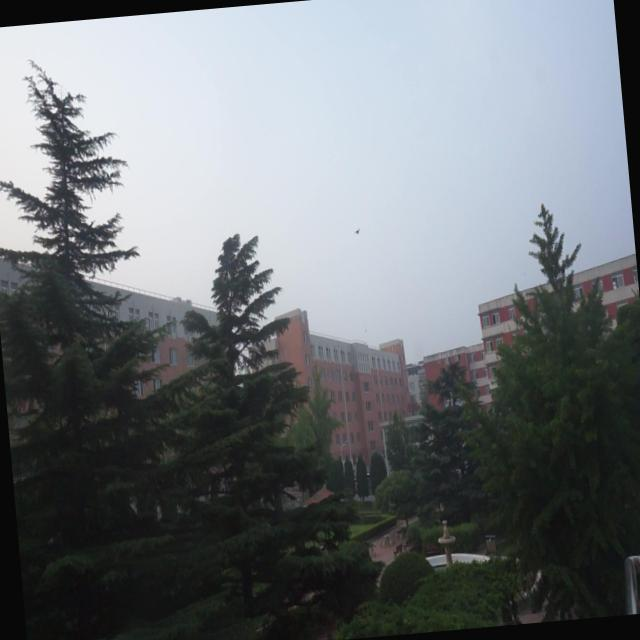drone: (352, 222, 365, 240)
